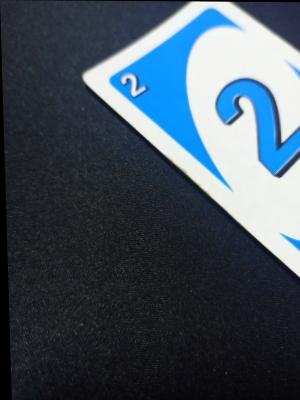num_2: (115, 65, 156, 104)
